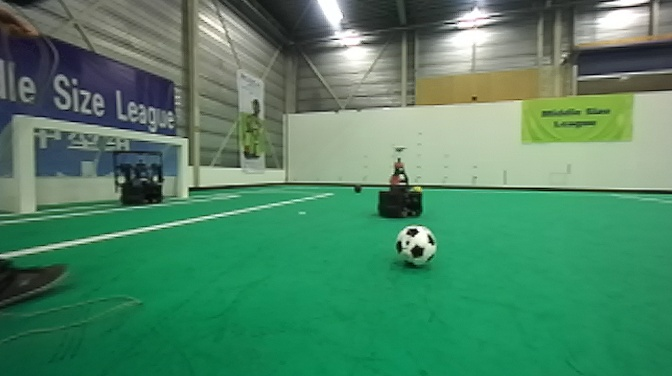ball: (392, 222, 442, 269), (353, 184, 364, 194)
goal: (7, 105, 203, 220)
goalpost: (11, 110, 39, 215), (177, 133, 191, 204)
robot: (376, 143, 424, 219), (111, 147, 169, 206)
